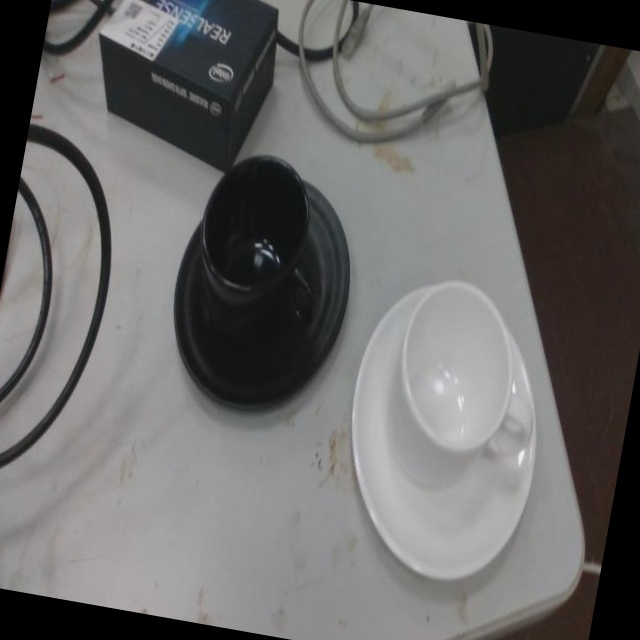black: (175, 152, 353, 416)
white: (346, 275, 541, 587)
